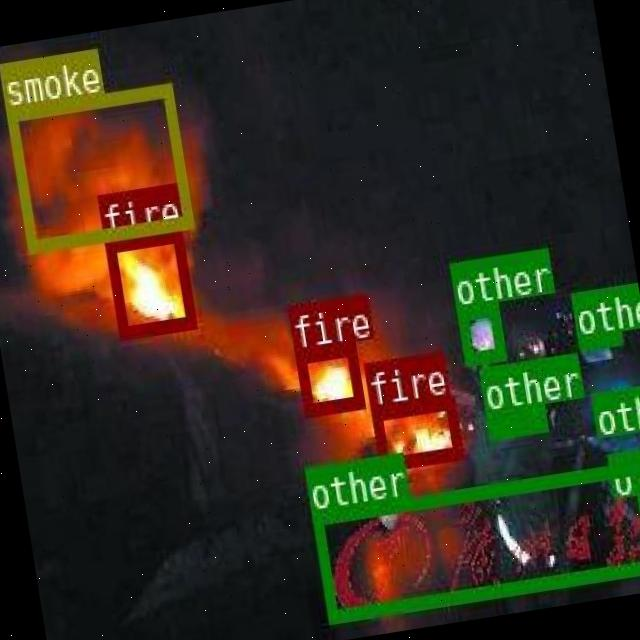fire: (104, 227, 194, 339), (369, 394, 462, 470), (294, 340, 362, 414)
smoke: (4, 83, 190, 251)
